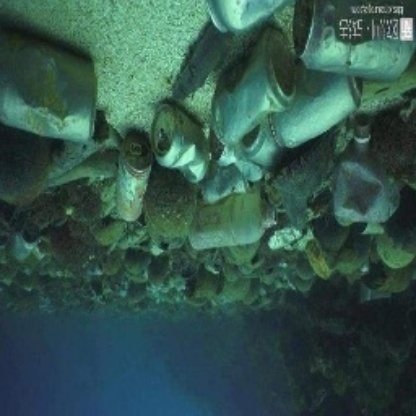bottle: (2, 27, 102, 142), (146, 104, 212, 187), (114, 137, 151, 222)
